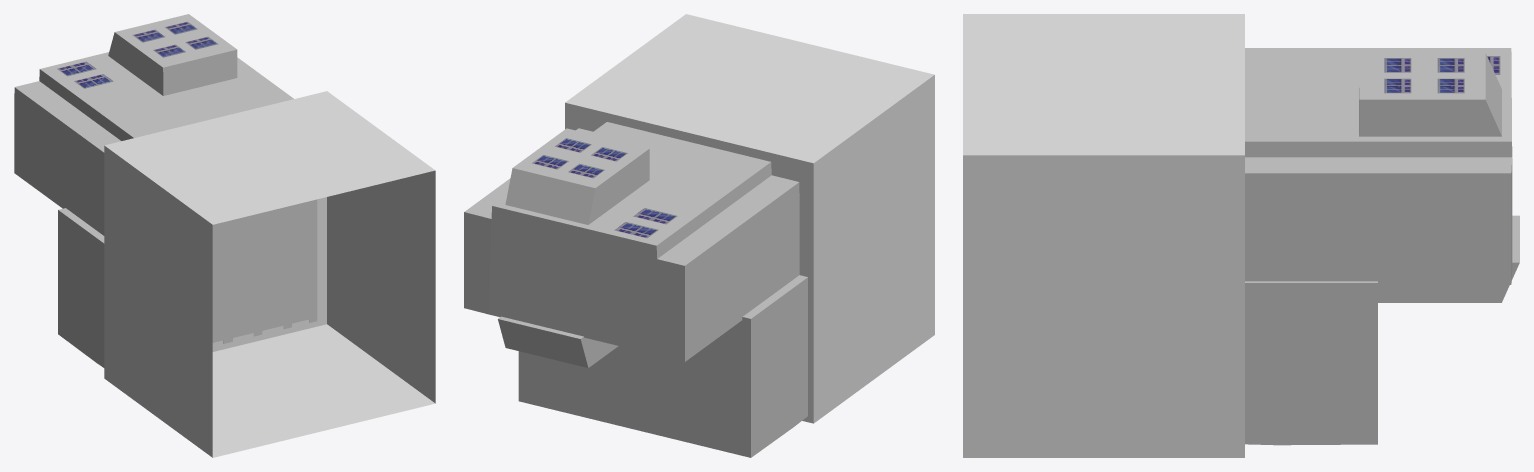
Rendered from block_medium_01.FBX.
The picture shows the model from 3 angles, left to right: view 1: azimuth 30°, elevation 25°; view 2: azimuth 150°, elevation 25°; view 3: azimuth 270°, elevation 25°; orthographic projection. The views are drawn at different scales.
Visible parts, largest first — view 1: Plane006, building_brutalist_6s, building_commercial_3s, addon; view 2: Plane006, building_brutalist_6s, building_commercial_3s, addon (×2); view 3: Plane006, building_brutalist_6s, building_commercial_3s, addon (×2).
Boxes of the visible parts, box(x1,y1,x2,y2) form: Plane006: box(104, 91, 435, 457); building_brutalist_6s: box(14, 52, 314, 235); building_commercial_3s: box(58, 199, 317, 367); addon: box(108, 14, 237, 95); Plane006: box(565, 14, 934, 423); building_brutalist_6s: box(464, 122, 799, 361); building_commercial_3s: box(518, 275, 807, 457); addon (×2): box(498, 128, 649, 367); Plane006: box(963, 14, 1244, 457); building_brutalist_6s: box(1245, 48, 1512, 284); building_commercial_3s: box(1245, 281, 1377, 445); addon (×2): box(1359, 52, 1519, 302).
Size of the model in its own units: 30 by 32.69 by 49.99.
